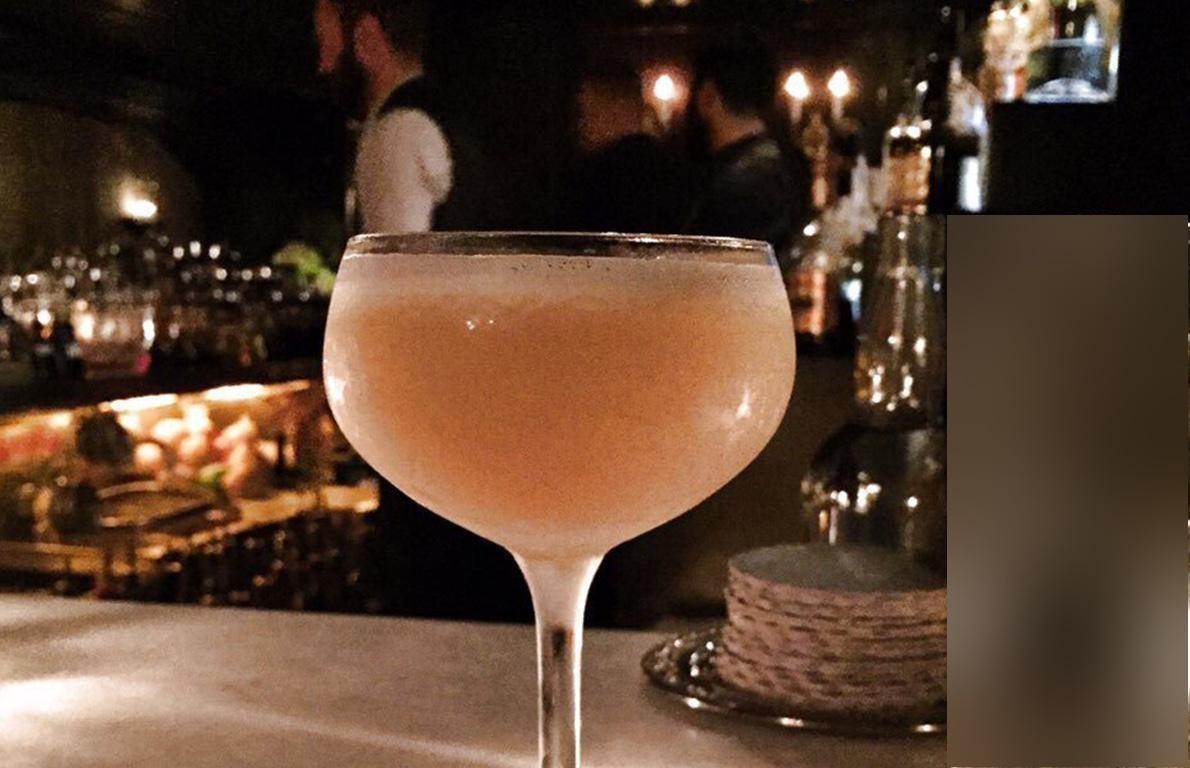glass-wine: (317, 220, 800, 767)
